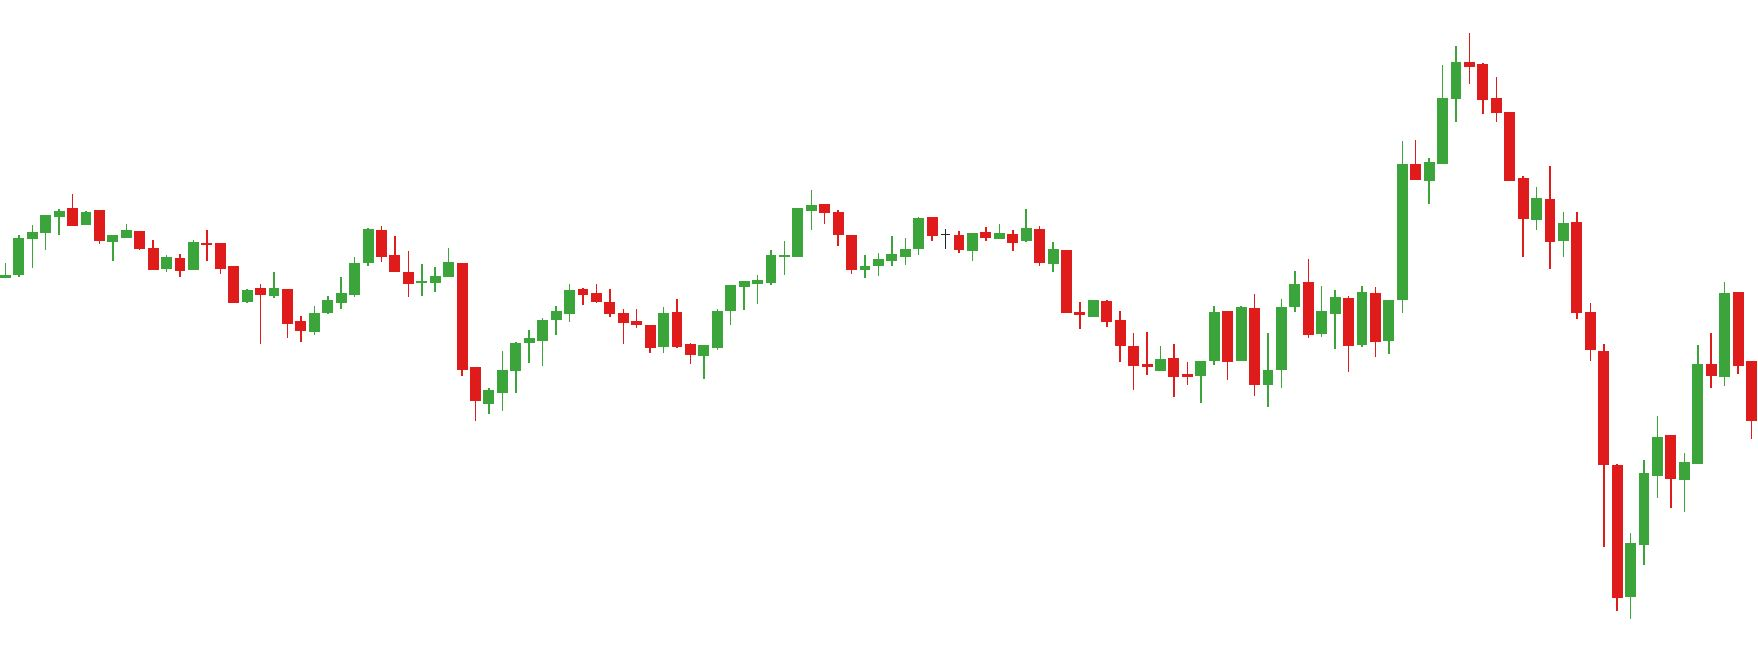buy: (1194, 328, 1274, 411)
